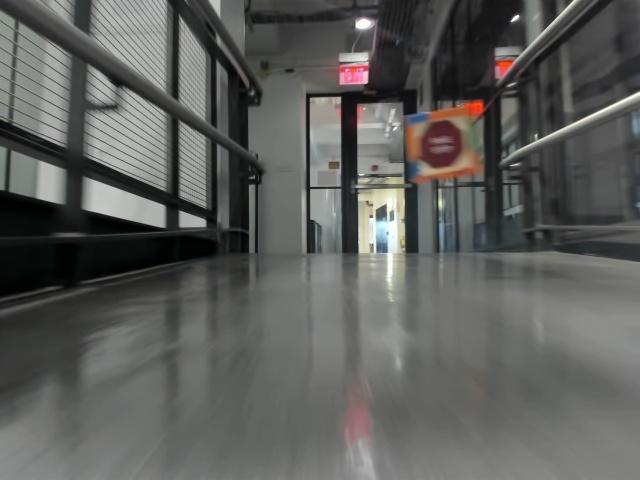Fake Stop: (413, 123, 460, 171)
